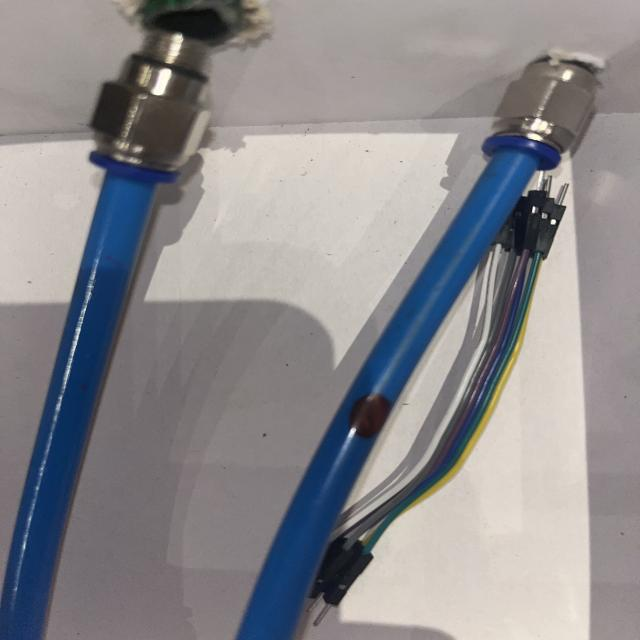hose_damage: (335, 387, 402, 446)
